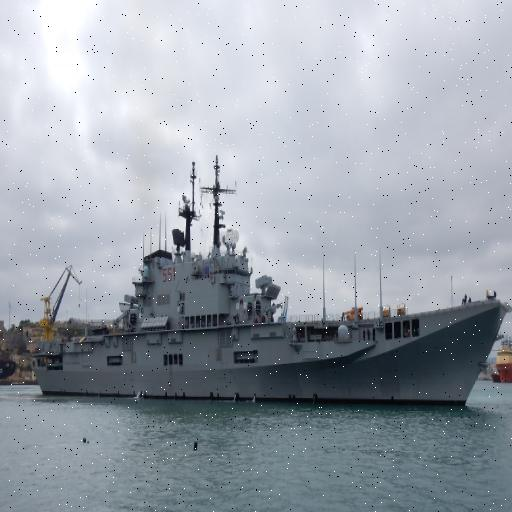Portanaves: (35, 156, 512, 418)
